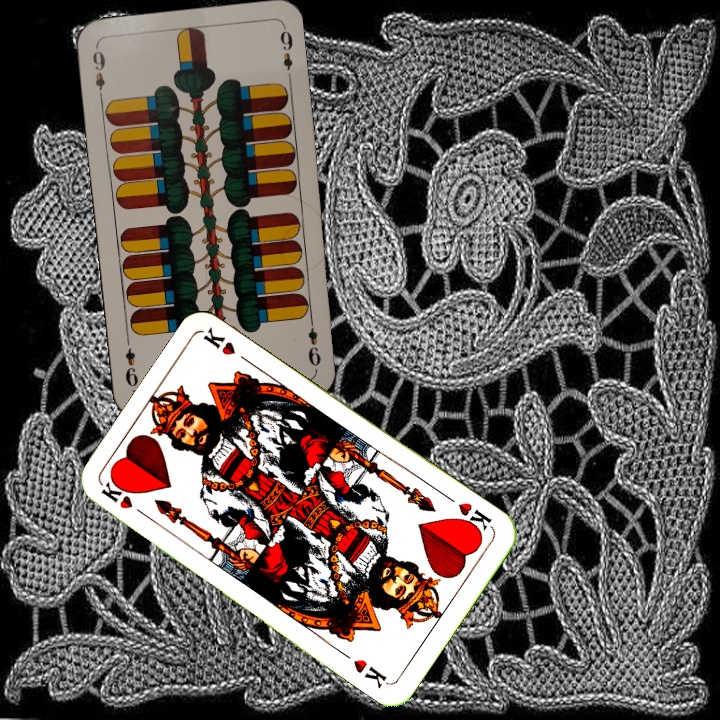E9: (88, 43, 108, 102), (304, 312, 323, 369)
HK: (443, 492, 495, 538), (96, 478, 151, 521)
